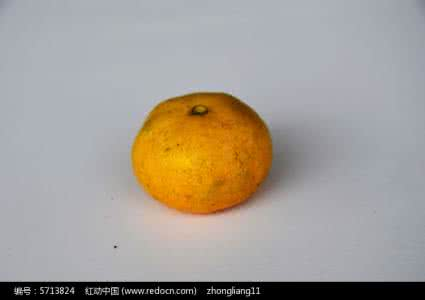orange: (128, 89, 275, 211)
